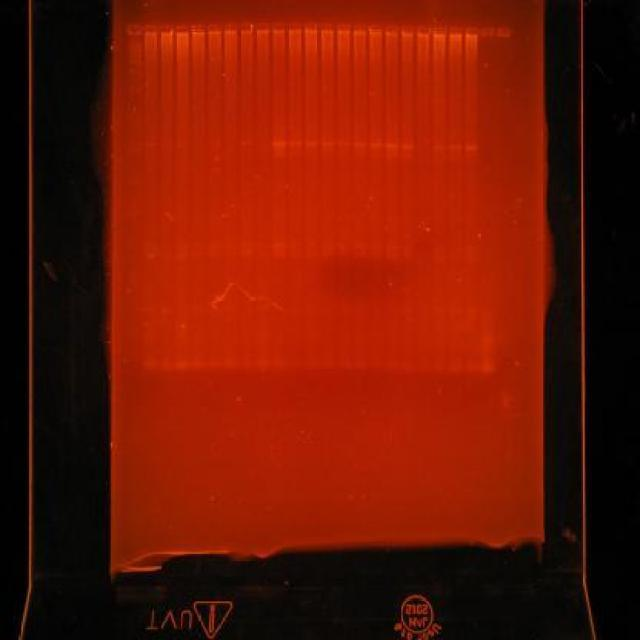B: (477, 337, 495, 355), (478, 361, 496, 376), (156, 358, 173, 373), (401, 358, 416, 374), (270, 358, 287, 372), (303, 358, 320, 372), (252, 359, 270, 372), (463, 360, 477, 376), (140, 358, 156, 372), (288, 358, 304, 372), (320, 358, 337, 371), (447, 362, 462, 376), (417, 362, 432, 376), (190, 358, 204, 372), (222, 358, 236, 372), (368, 358, 382, 372), (238, 358, 252, 372), (433, 362, 447, 376), (174, 361, 189, 374), (338, 359, 353, 372), (206, 359, 220, 372), (354, 359, 368, 372), (384, 360, 399, 372), (462, 307, 478, 318), (304, 302, 320, 313), (158, 304, 172, 316), (448, 243, 463, 254), (448, 253, 463, 264), (142, 251, 160, 260), (238, 251, 256, 260), (353, 252, 369, 262), (192, 250, 206, 261), (288, 249, 302, 260), (190, 303, 204, 314), (431, 244, 447, 253), (303, 240, 319, 249), (304, 250, 320, 259), (206, 251, 222, 260), (222, 304, 238, 313), (272, 248, 286, 258), (192, 242, 206, 252), (337, 304, 351, 314), (431, 253, 446, 262), (321, 251, 336, 260), (353, 244, 369, 252), (270, 242, 286, 250), (320, 242, 336, 250), (174, 252, 190, 260), (206, 242, 222, 250), (238, 139, 254, 147), (464, 253, 478, 262), (176, 243, 190, 252), (288, 240, 302, 249), (432, 307, 446, 316), (369, 244, 383, 252), (369, 252, 383, 260), (386, 243, 400, 251), (386, 252, 400, 260), (400, 244, 414, 252), (400, 252, 414, 260), (464, 245, 478, 253), (240, 242, 254, 250), (256, 242, 270, 250), (256, 252, 270, 260), (144, 306, 158, 314), (400, 306, 414, 314), (159, 253, 173, 261), (160, 245, 174, 252), (271, 141, 287, 147), (271, 151, 287, 157), (320, 140, 336, 146), (447, 144, 462, 150), (384, 143, 399, 149), (368, 142, 383, 148), (143, 142, 157, 148), (176, 142, 190, 148), (288, 140, 302, 146), (337, 141, 351, 147), (353, 141, 367, 147), (432, 144, 446, 150), (400, 143, 414, 149), (384, 152, 398, 158), (400, 152, 414, 158), (207, 140, 221, 146), (304, 140, 320, 145), (463, 145, 479, 150), (160, 142, 173, 148)
L: (123, 16, 514, 42)
M: (124, 42, 146, 376)
P: (127, 176, 144, 187), (126, 208, 142, 217), (126, 145, 142, 153), (128, 118, 144, 125), (128, 111, 144, 118), (126, 68, 142, 74), (126, 86, 142, 92), (128, 140, 142, 146), (126, 60, 142, 64), (126, 44, 142, 48), (128, 54, 142, 58), (126, 51, 142, 54), (128, 41, 142, 44), (126, 48, 142, 49)
Pc: (464, 23, 479, 39), (126, 22, 143, 36), (158, 24, 174, 38), (270, 20, 286, 34), (288, 20, 304, 34), (448, 26, 464, 40), (384, 24, 400, 38), (207, 22, 222, 36), (368, 22, 383, 36), (222, 22, 238, 35), (238, 22, 254, 35), (480, 25, 496, 38), (432, 26, 448, 39), (336, 22, 352, 35), (303, 22, 319, 35), (256, 20, 270, 34), (416, 24, 430, 38), (400, 24, 414, 38), (353, 22, 367, 36), (320, 22, 334, 36), (143, 24, 159, 36), (191, 24, 206, 36), (496, 27, 512, 38), (174, 26, 190, 36)
